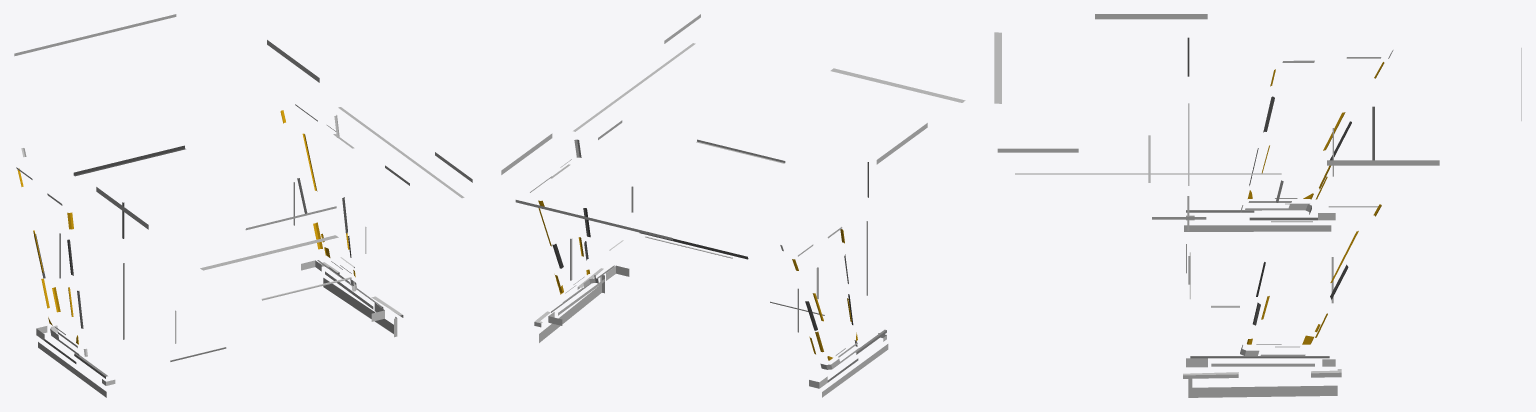
3 renders of one model, left to right at view 1: azimuth 30°, elevation 25°; view 2: azimuth 150°, elevation 25°; view 3: azimuth 270°, elevation 25°, orthographic. The views are drawn at different scales.
Visible parts, largest first — view 1: SM_H_Building_FutureTech_SentryBox_02_Decal; view 2: SM_H_Building_FutureTech_SentryBox_02_Decal; view 3: SM_H_Building_FutureTech_SentryBox_02_Decal.
Part boxes in pixels (bbox=[...]): SM_H_Building_FutureTech_SentryBox_02_Decal: bbox=[14, 14, 472, 397]; SM_H_Building_FutureTech_SentryBox_02_Decal: bbox=[501, 14, 965, 397]; SM_H_Building_FutureTech_SentryBox_02_Decal: bbox=[994, 14, 1521, 397].
Bounding box in the file's own units: 498 × 348 × 253.
